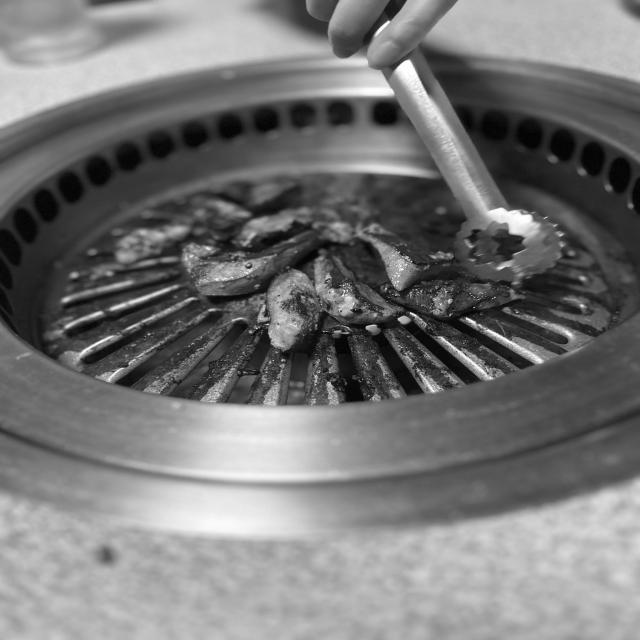overcooked beef,: (309, 246, 414, 330), (383, 275, 544, 329), (357, 225, 470, 298)
